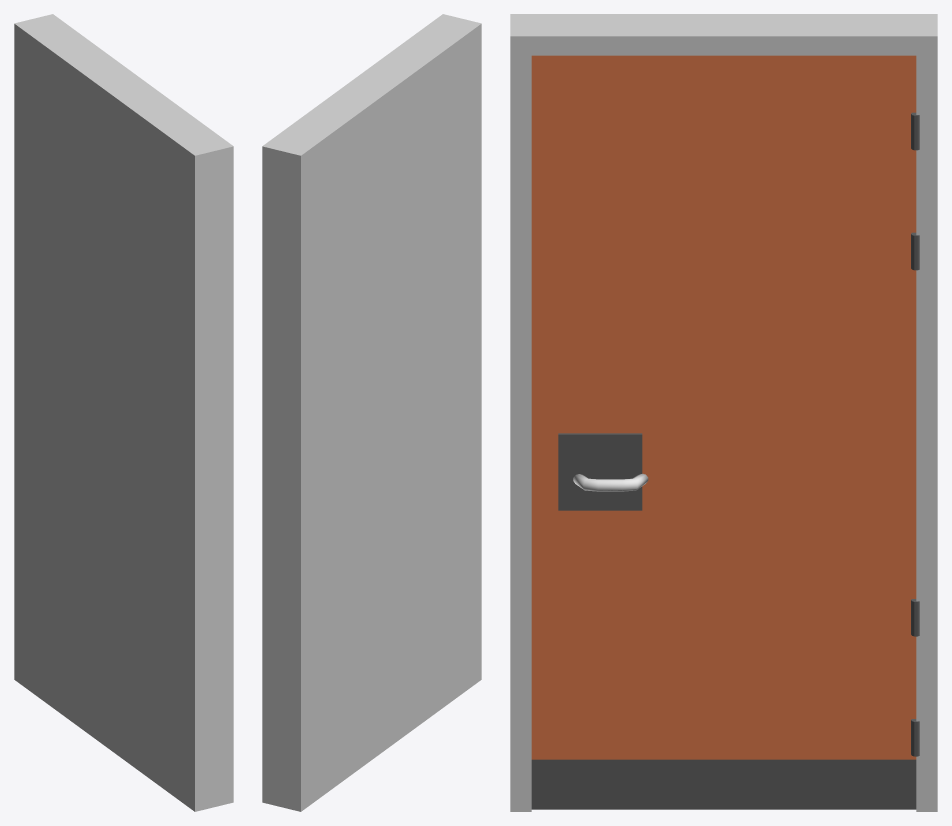
The model's file is BathroomDoor.fbx.
3 views of the same model, side by side, from view 1: azimuth 30°, elevation 25°; view 2: azimuth 150°, elevation 25°; view 3: azimuth 270°, elevation 25° (orthographic). The views are drawn at different scales.
Parts seen in each view (by area): view 1: Door; view 2: Door; view 3: Door, Handle.
Part boxes in pixels (x1=…): Door: x1=14, y1=14, x2=233, y2=811; Door: x1=262, y1=14, x2=481, y2=811; Door: x1=510, y1=14, x2=937, y2=811; Handle: x1=573, y1=473, x2=648, y2=491.
Bounding box in the file's own units: 16.71 × 205 × 102.
